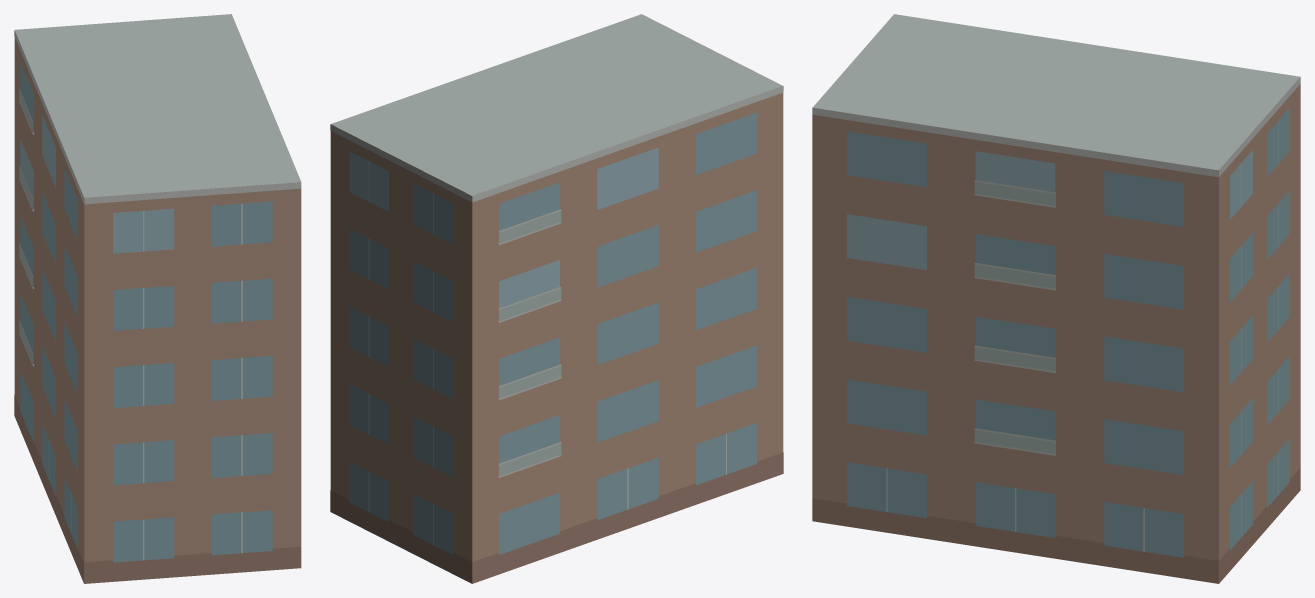
Rendered from survey-upis-32943185.glb.
3 renders of one model, left to right at view 1: azimuth 30°, elevation 25°; view 2: azimuth 150°, elevation 25°; view 3: azimuth 270°, elevation 25°, orthographic. The views are drawn at different scales.
Visible parts, largest first — view 1: survey-upis-32943185.tmp; view 2: survey-upis-32943185.tmp; view 3: survey-upis-32943185.tmp.
Part boxes in pixels (left/top/right/bottom): survey-upis-32943185.tmp: left=14, top=14, right=301, bottom=583; survey-upis-32943185.tmp: left=330, top=14, right=783, bottom=583; survey-upis-32943185.tmp: left=812, top=14, right=1300, bottom=583.
Bounding box in the file's own units: 11.81 × 14.55 × 15.58.
